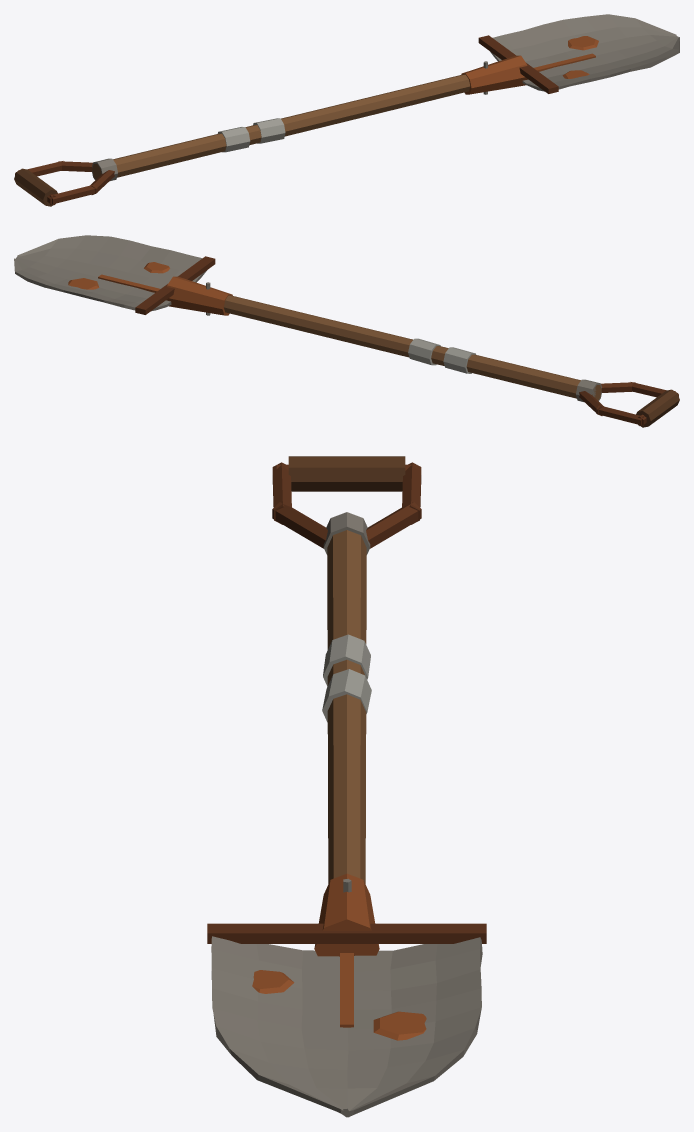
The model's file is shovel.glb.
The picture shows the model from 3 angles, top to bottom: view 1: azimuth 30°, elevation 25°; view 2: azimuth 150°, elevation 25°; view 3: azimuth 270°, elevation 25°; orthographic projection. The views are drawn at different scales.
Visible parts, largest first — view 1: shovel; view 2: shovel; view 3: shovel.
Part boxes in pixels (<box>): shovel: <box>14,14,679,206</box>; shovel: <box>14,235,679,427</box>; shovel: <box>207,456,486,1117</box>.
Bounding box in the file's own units: 1.29 × 0.06 × 0.24.
